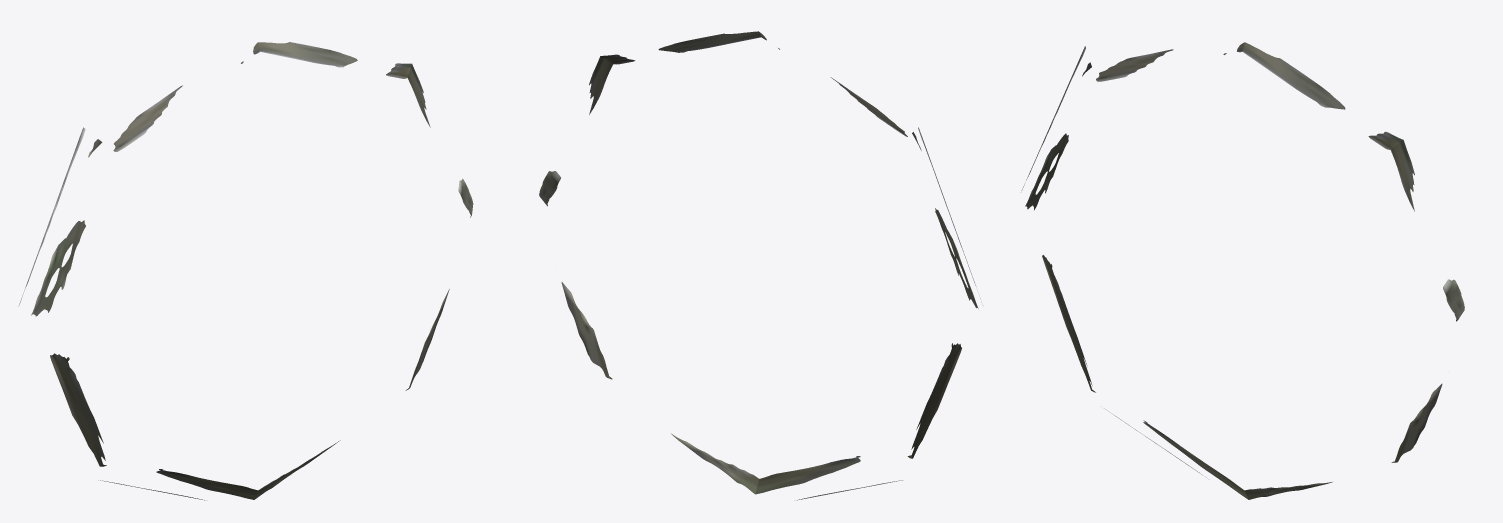
File: earring_s14_m_l2.fbx
The picture shows the model from 3 angles, left to right: view 1: azimuth 30°, elevation 25°; view 2: azimuth 150°, elevation 25°; view 3: azimuth 330°, elevation 25°; orthographic projection.
Parts seen in each view (by area): view 1: mesh_node; view 2: mesh_node; view 3: mesh_node.
Part boxes in pixels (x1,y1,x2,y2): mesh_node: (18, 42, 473, 500); mesh_node: (539, 31, 981, 500); mesh_node: (1021, 42, 1464, 499).
Size of the model in its own units: 0.027 by 0.027 by 0.00179.
Materials: 1 (1 with a texture image).
